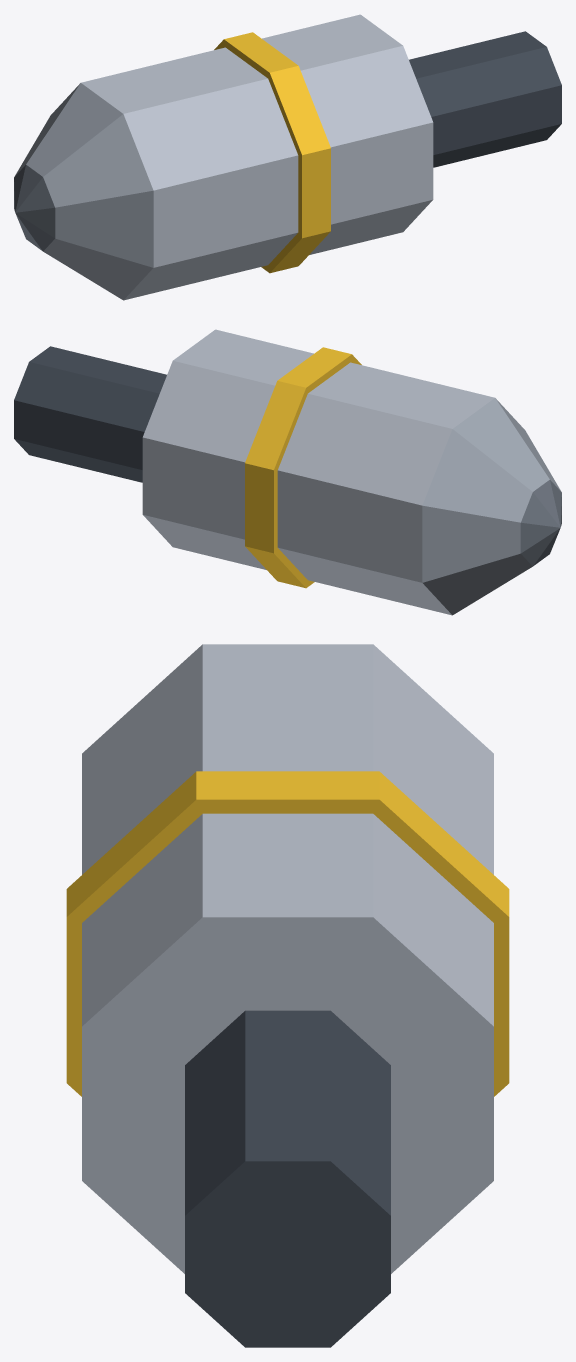
Rendered from tank_hpa_mini.glb.
3 renders of one model, top to bottom at view 1: azimuth 30°, elevation 25°; view 2: azimuth 150°, elevation 25°; view 3: azimuth 270°, elevation 25°, orthographic. The views are drawn at different scales.
Visible parts, largest first — view 1: tank_hpa_mini; view 2: tank_hpa_mini; view 3: tank_hpa_mini.
Boxes of the visible parts, bbox=[...] form: tank_hpa_mini: bbox=[14, 14, 561, 300]; tank_hpa_mini: bbox=[14, 329, 561, 615]; tank_hpa_mini: bbox=[66, 644, 509, 1347].
Size of the model in its own units: 0.108 by 0.0397 by 0.0397.
